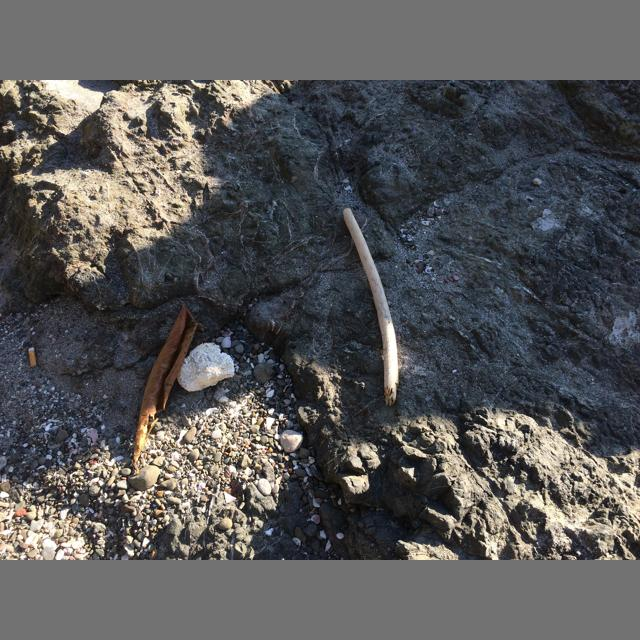litter: (176, 343, 235, 392), (28, 347, 36, 367)
